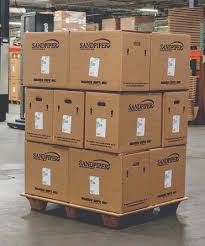box: (69, 147, 120, 215), (69, 29, 121, 91), (24, 139, 69, 206), (22, 32, 69, 88), (120, 93, 161, 155), (151, 32, 191, 92), (84, 89, 120, 154), (153, 144, 187, 205), (120, 149, 152, 212), (54, 87, 84, 152), (22, 86, 54, 146), (122, 32, 151, 92), (161, 90, 188, 148)
pallet: (18, 190, 189, 232)
